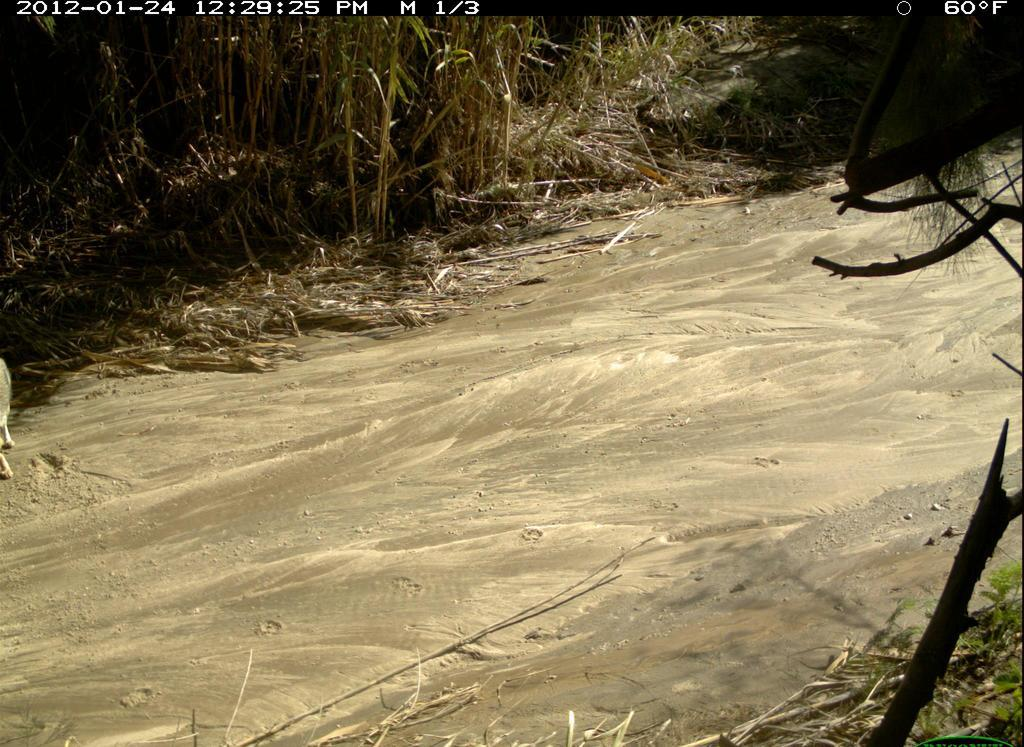coyote: (1, 342, 29, 489)
